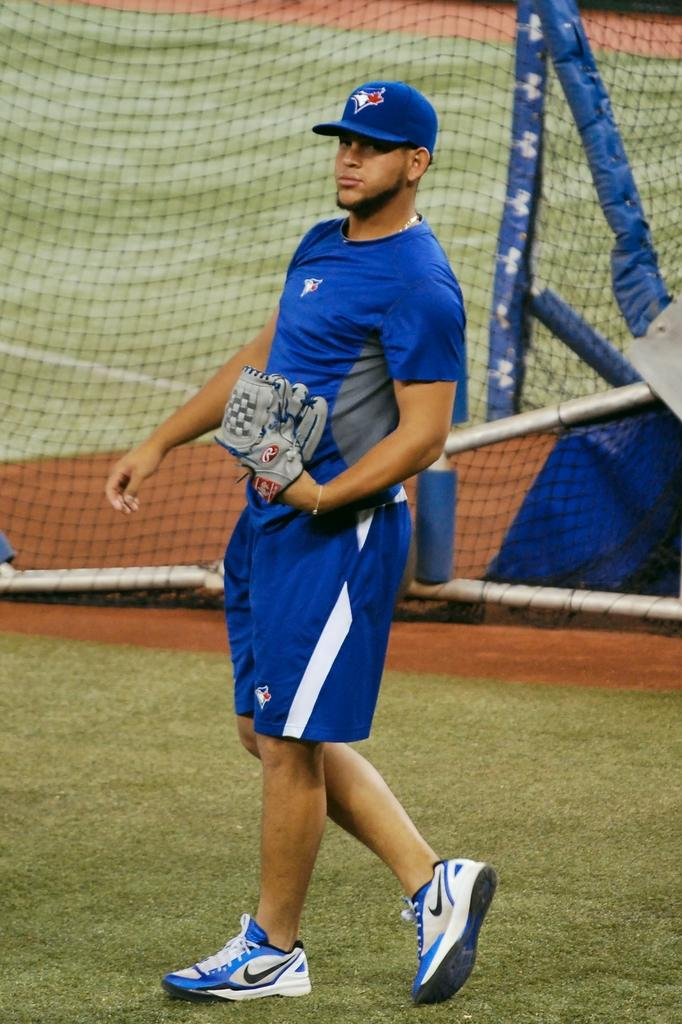Hat: (312, 79, 439, 156)
